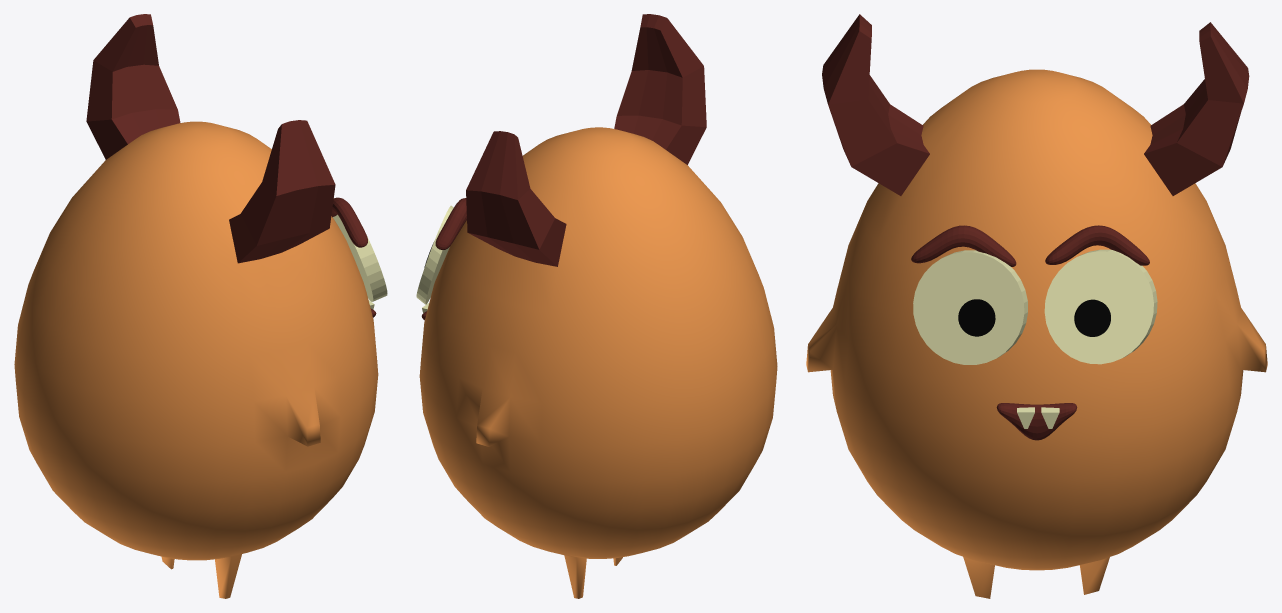
File: Egg character.fbx
3 renders of one model, left to right at view 1: azimuth 30°, elevation 25°; view 2: azimuth 150°, elevation 25°; view 3: azimuth 270°, elevation 25°, orthographic. The views are drawn at different scales.
Parts seen in each view (by area): view 1: Sphere.091; view 2: Sphere.091; view 3: Sphere.091.
Boxes of the visible parts, left/top/right/bottom form: Sphere.091: left=14, top=14, right=387, bottom=598; Sphere.091: left=416, top=14, right=777, bottom=598; Sphere.091: left=806, top=14, right=1267, bottom=598.
Bounding box in the file's own units: 208 × 312 × 222.
